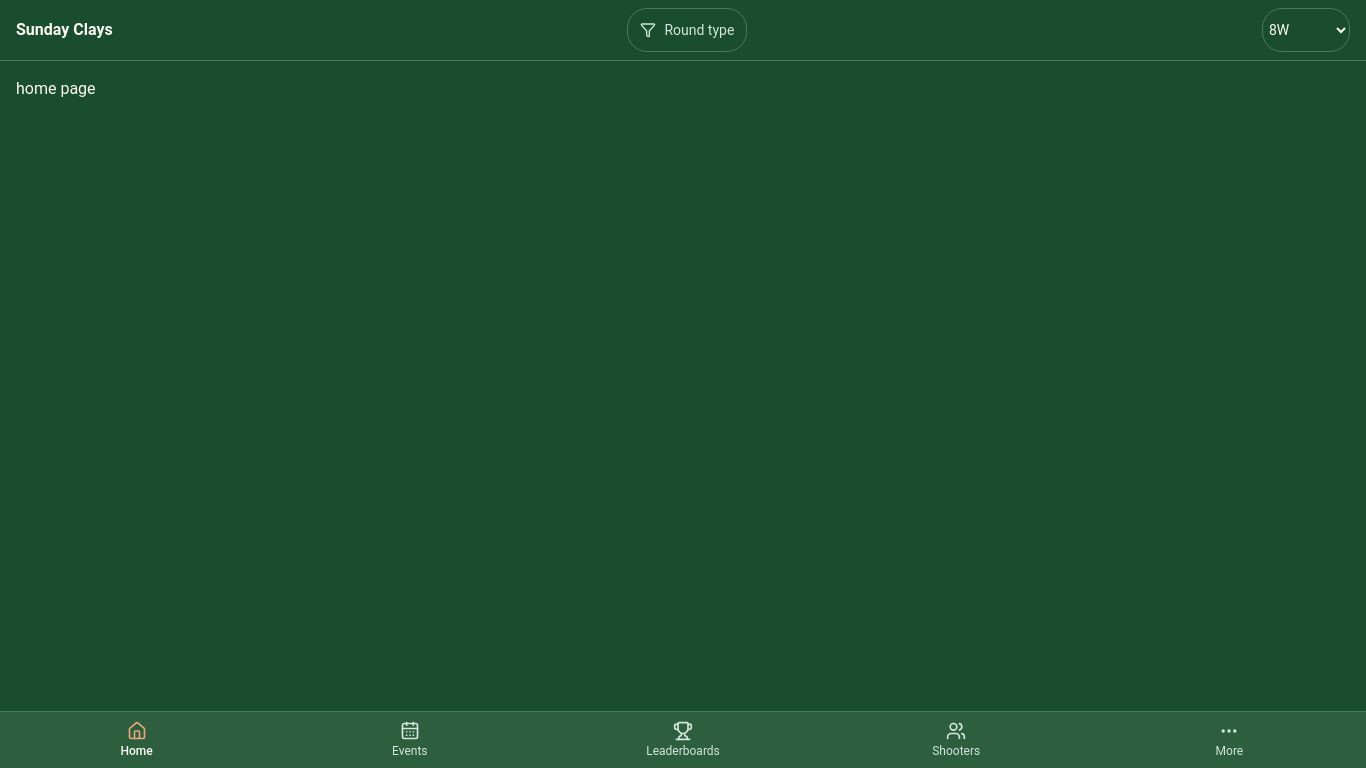
it: AppShell on mobile › opens the More sheet with the remaining items and account, and closes it on navigation
This screenshot has width=1366, height=768.
Click the button "More": [1229, 740] box [1093,712,1365,767]
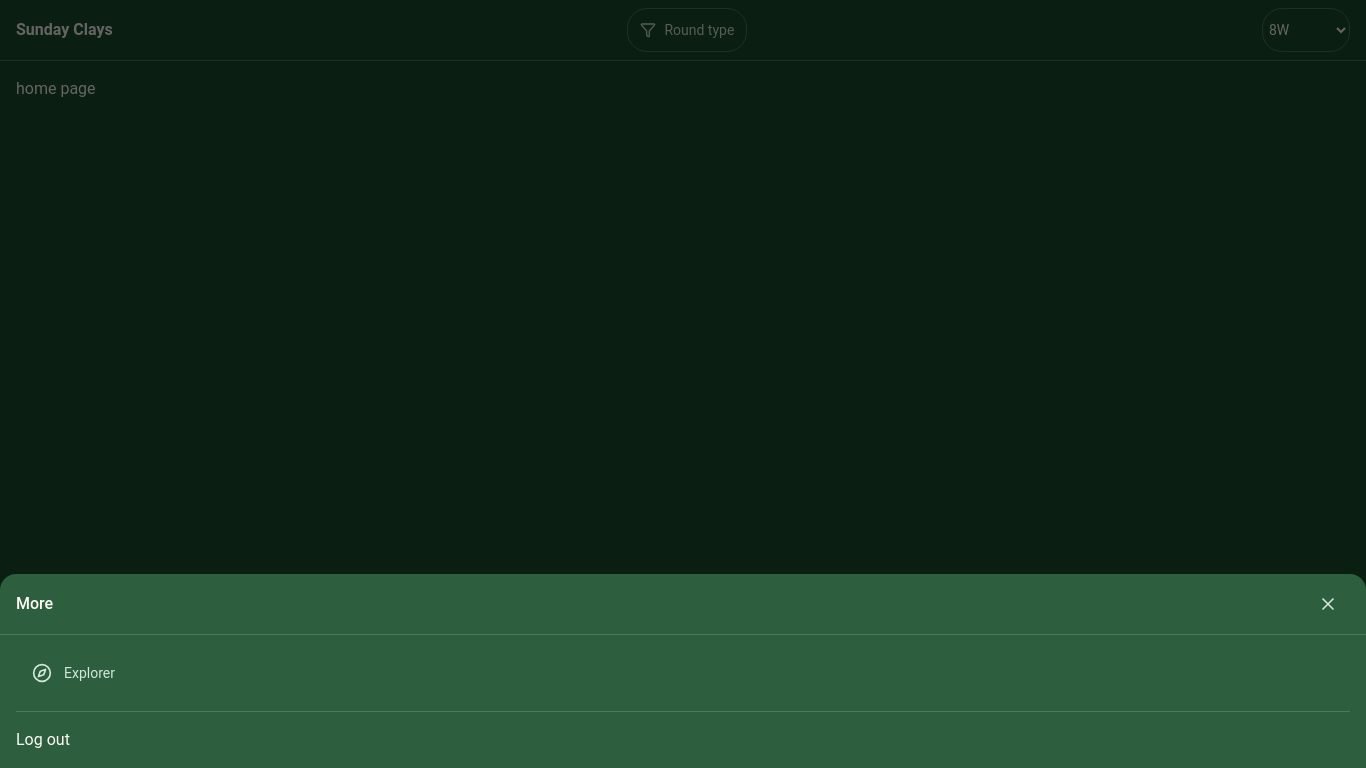
Now the links read "Explorer", in this order
Now the button "Log out" is shown, box [16,728,70,752]
Click the link "Explorer": [73, 673] box [32,663,115,683]
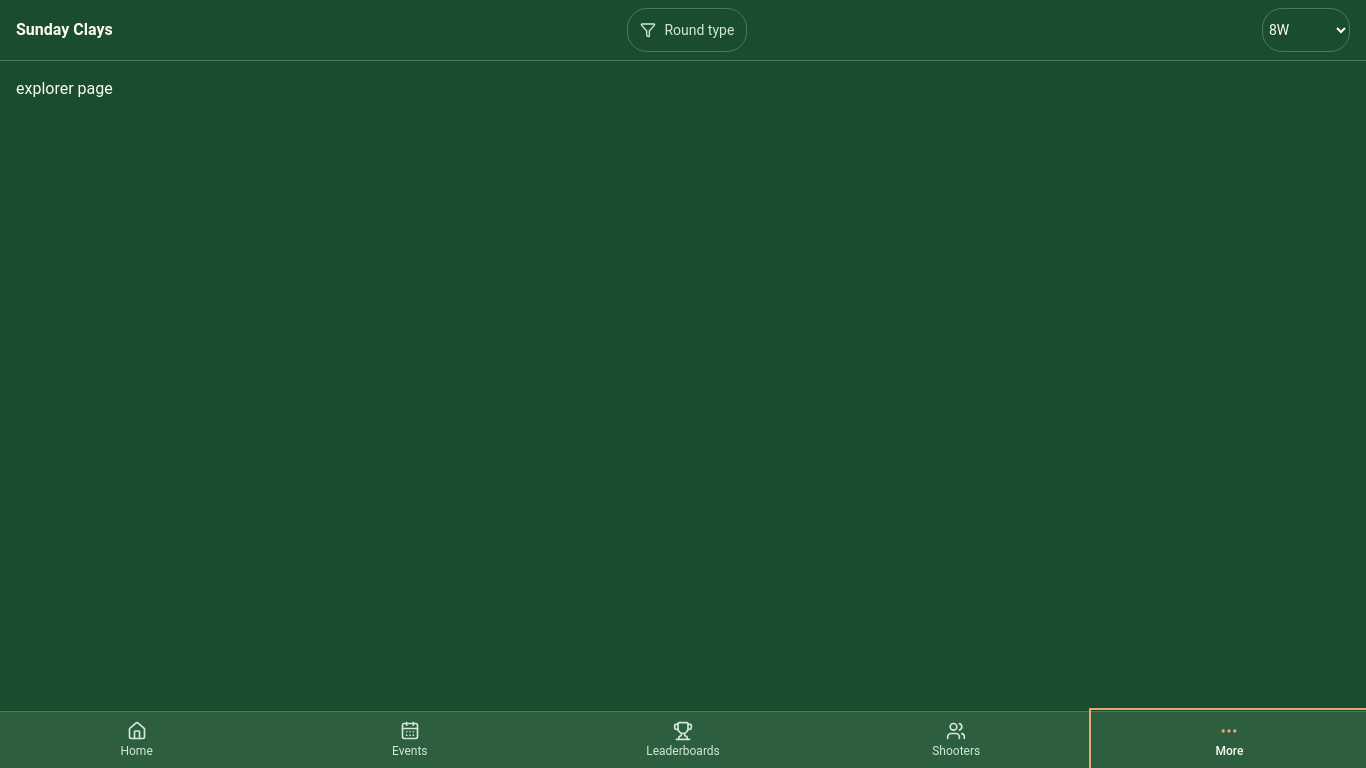
Now the dialog is gone
Now the element showing "explorer page" is shown, box [16,79,113,98]
